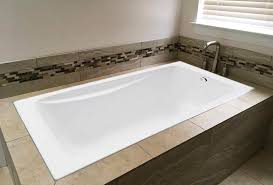bathub: (1, 59, 273, 185)
